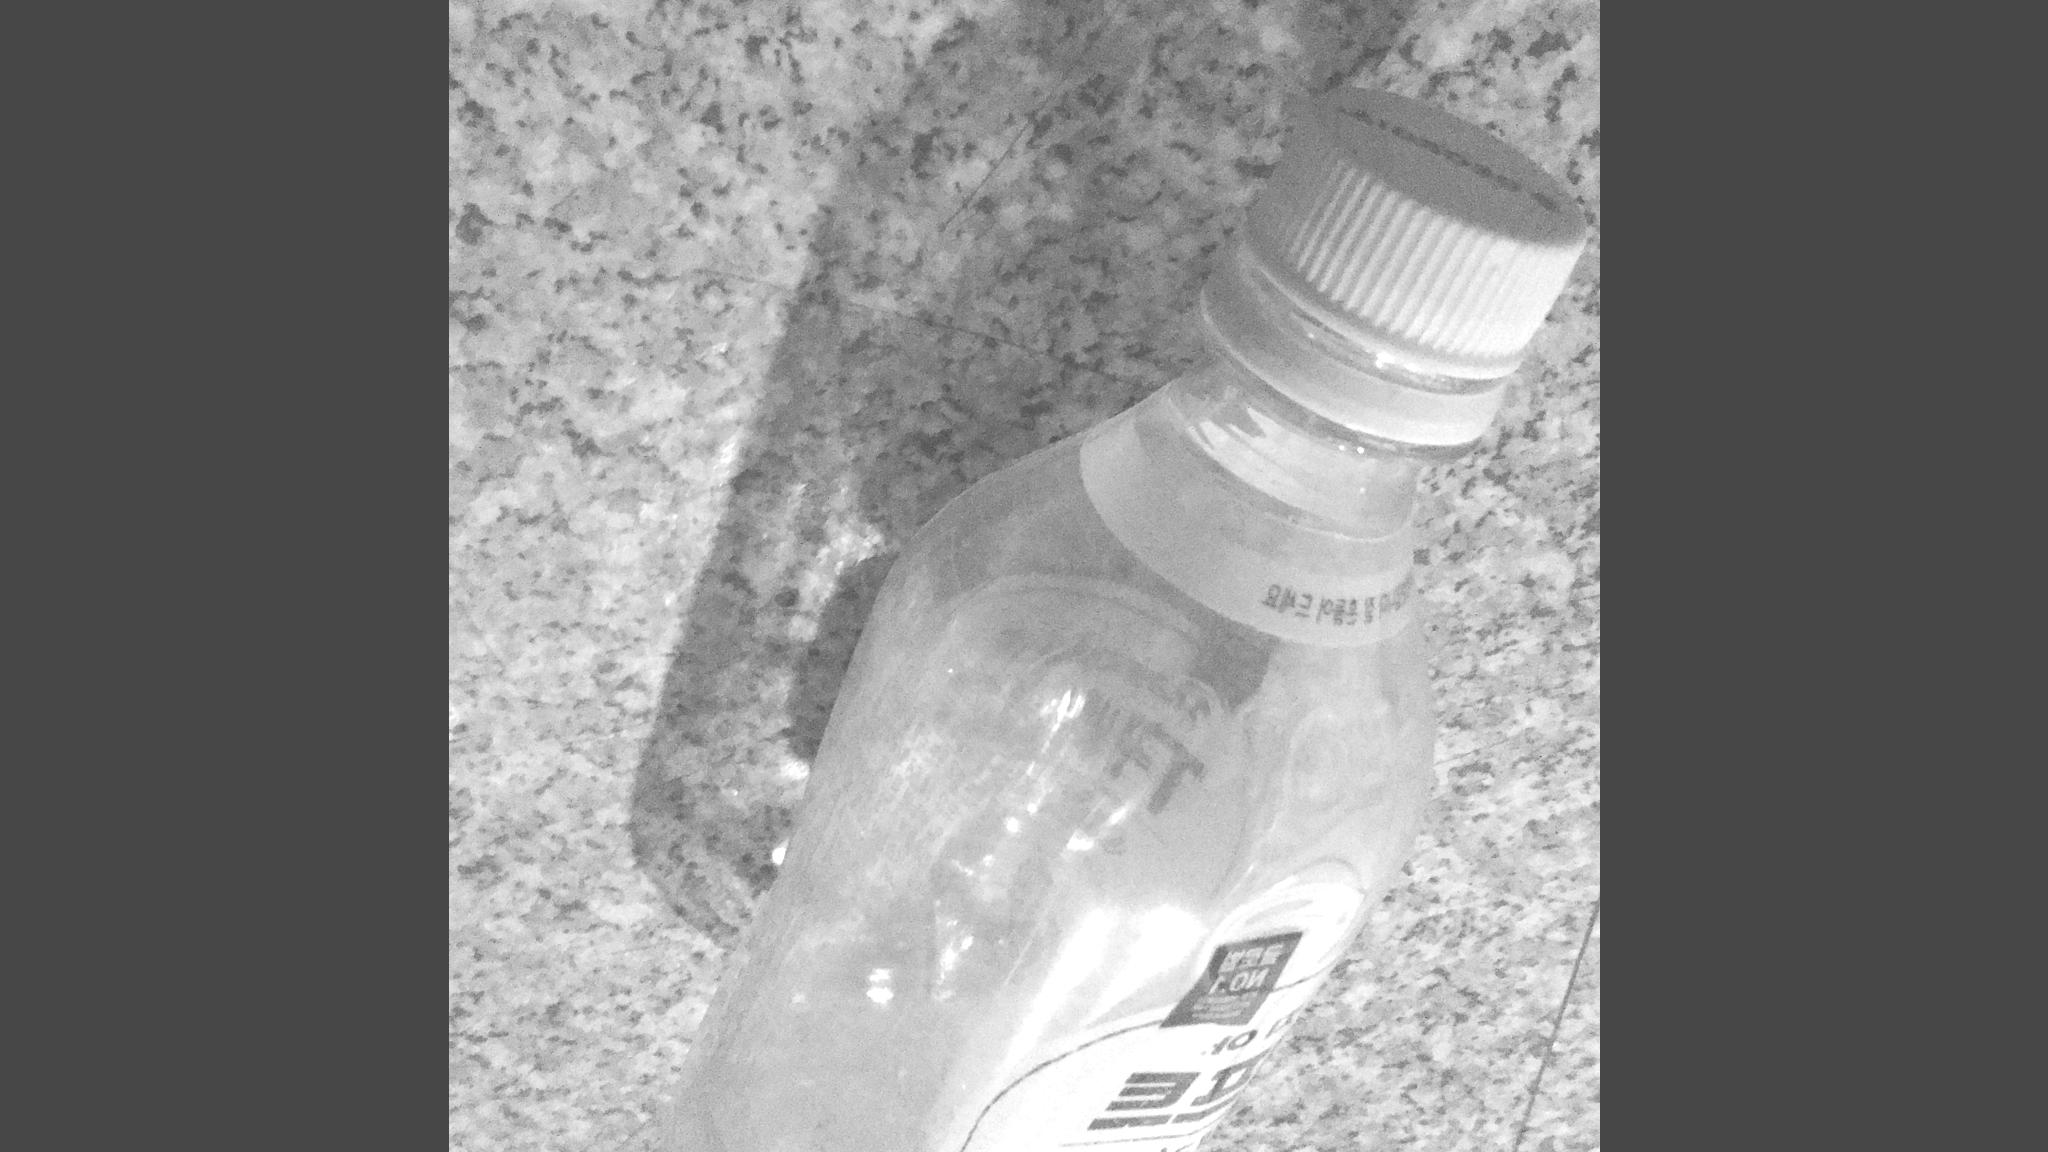bottle: (632, 22, 1591, 1152)
